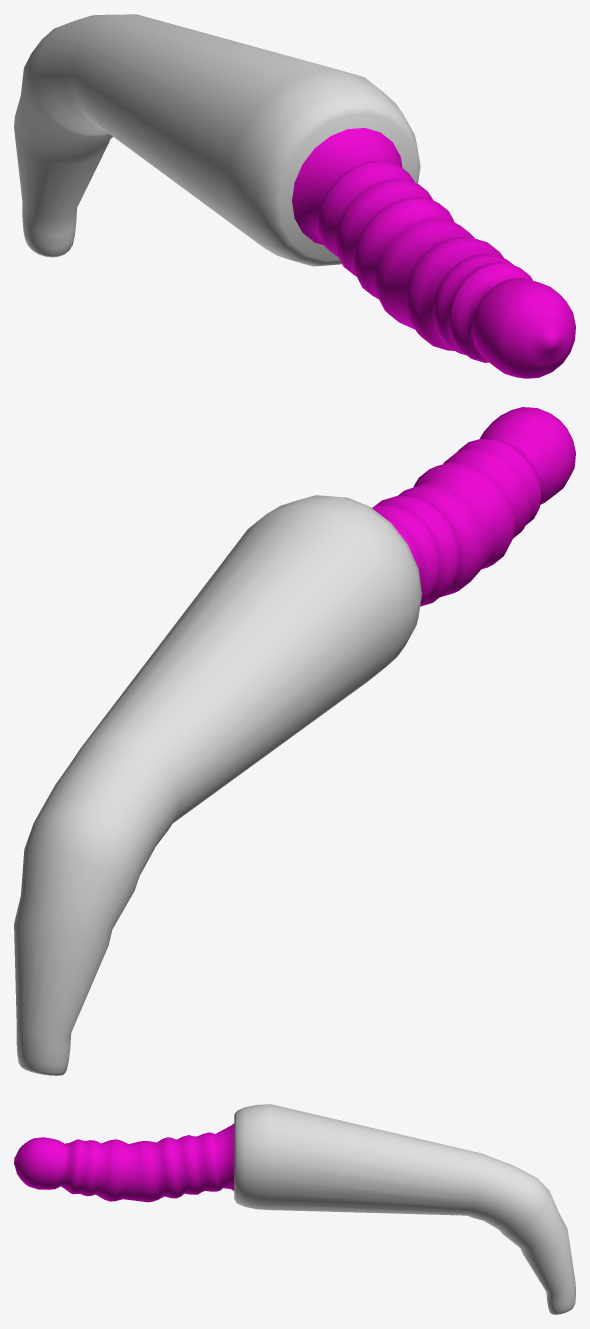
File: Vibe4_Pink.fbx
3 renders of one model, top to bottom at view 1: azimuth 30°, elevation 25°; view 2: azimuth 150°, elevation 25°; view 3: azimuth 270°, elevation 25°, orthographic. The views are drawn at different scales.
Parts seen in each view (by area): view 1: obj2.001, obj1.003; view 2: obj2.001, obj1.003; view 3: obj2.001, obj1.003.
Boxes of the visible parts, <box> form: obj2.001: <box>14,14,420,266</box>; obj1.003: <box>292,128,575,378</box>; obj2.001: <box>14,495,421,1075</box>; obj1.003: <box>372,407,575,606</box>; obj2.001: <box>234,1104,575,1314</box>; obj1.003: <box>14,1123,234,1202</box>.
Size of the model in its own units: 83.14 by 174 by 437.
